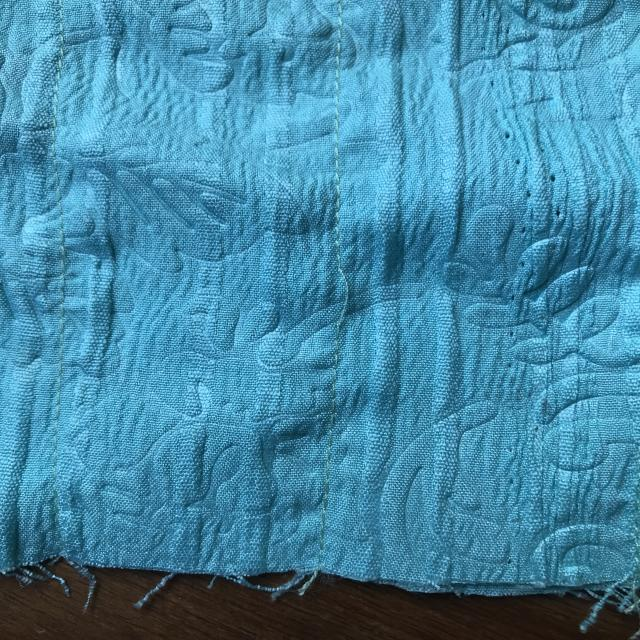good: (323, 133, 350, 195)
skip: (322, 248, 366, 347)
